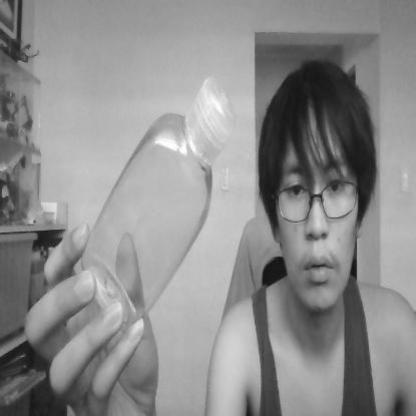Plastic Bottle: (82, 57, 236, 349)
